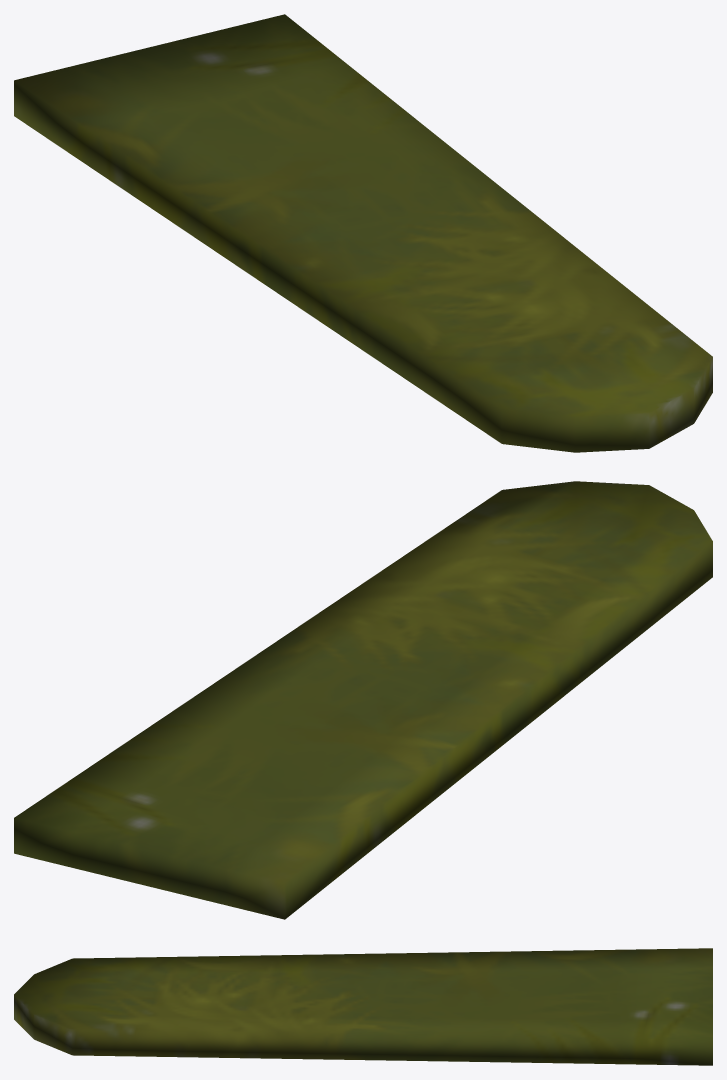
Rendered from Tongue.fbx.
3 views of the same model, one above another, from view 1: azimuth 30°, elevation 25°; view 2: azimuth 150°, elevation 25°; view 3: azimuth 270°, elevation 25° (orthographic). The views are drawn at different scales.
Visible parts, largest first — view 1: Tongue; view 2: Tongue; view 3: Tongue.
Part boxes in pixels (x1,y1,x2,y2): Tongue: (14,14,712,452); Tongue: (14,481,712,919); Tongue: (14,948,712,1065).
Bounding box in the file's own units: 0.0178 × 0.00224 × 0.0568.
